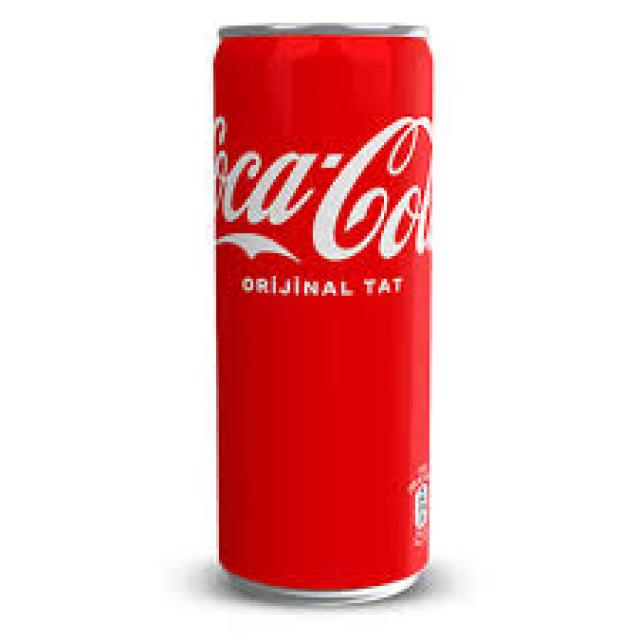aluminum_can: (216, 26, 432, 602)
